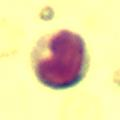monocyte: (28, 30, 89, 87)
